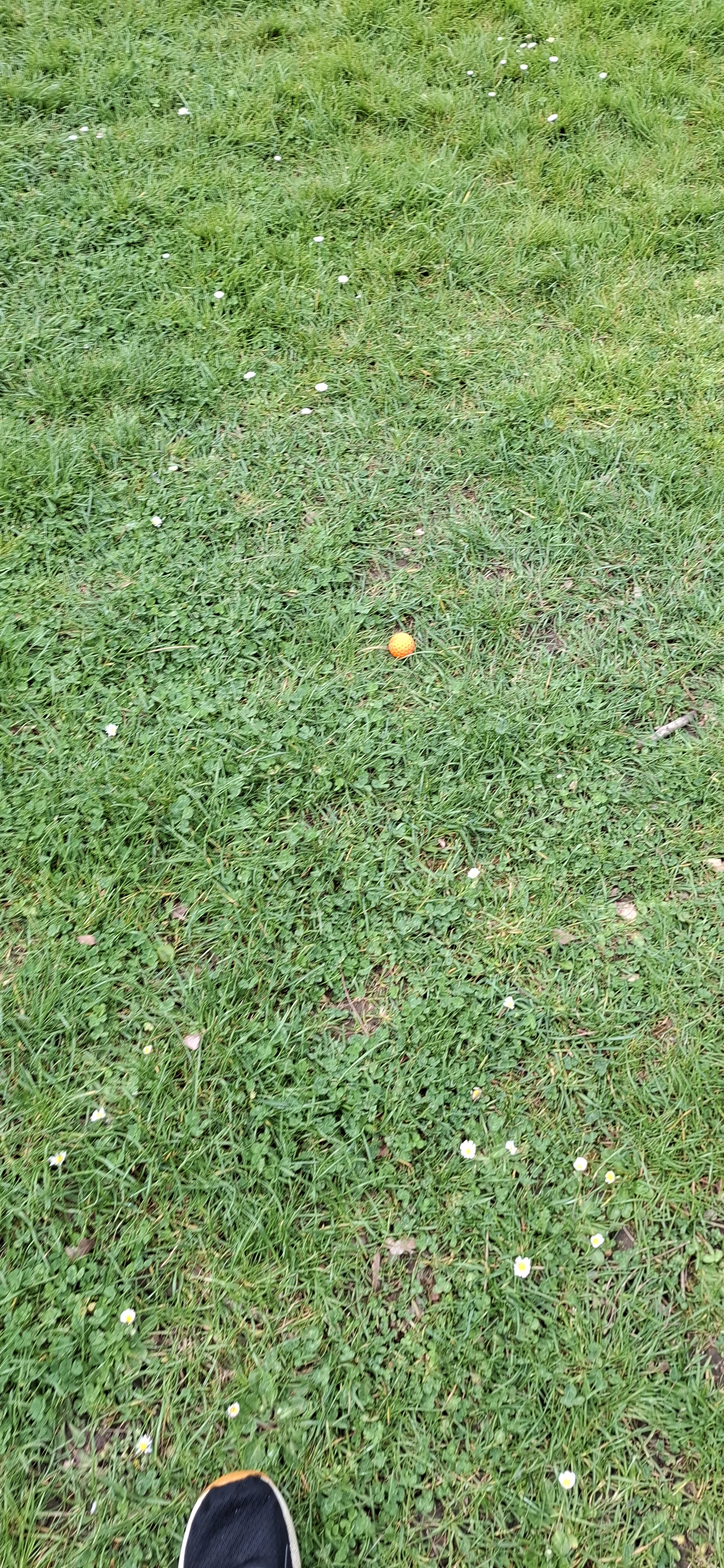ball: (292, 669, 304, 727)
